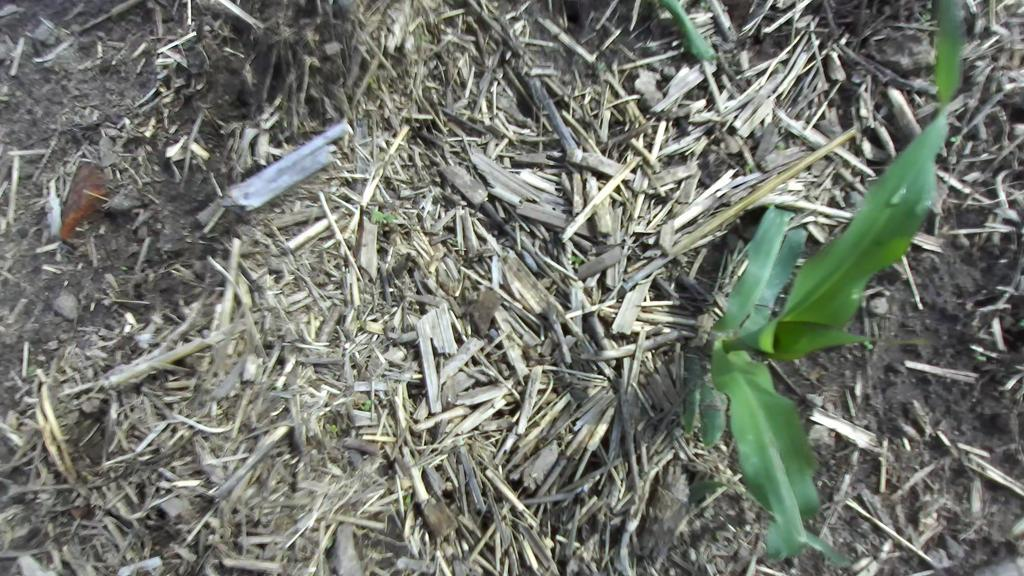BroWeed: (368, 204, 396, 224), (970, 349, 989, 363), (367, 74, 380, 90), (322, 422, 338, 433), (404, 489, 412, 511), (360, 399, 371, 411), (775, 140, 787, 151), (744, 163, 753, 176), (118, 263, 129, 272), (921, 11, 932, 20), (950, 135, 960, 142), (570, 256, 580, 263), (927, 0, 933, 8), (1018, 319, 1024, 326)
